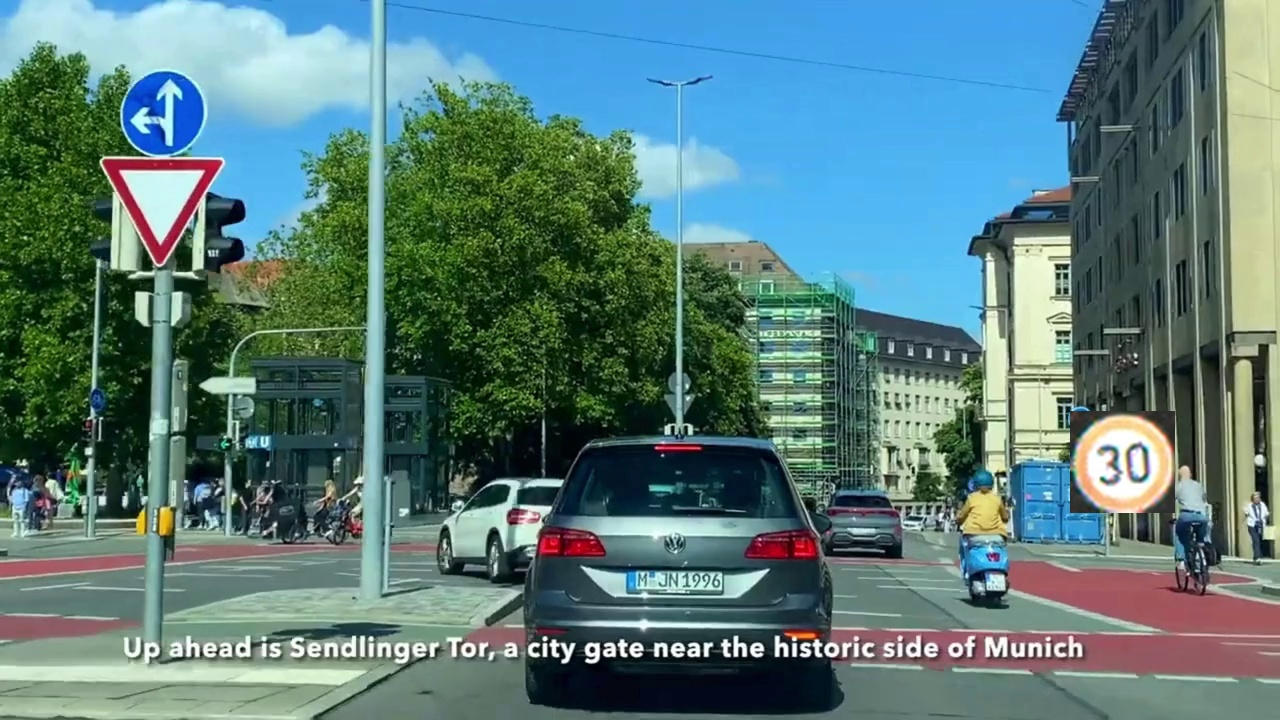Speed 30: (1070, 411, 1175, 513)
